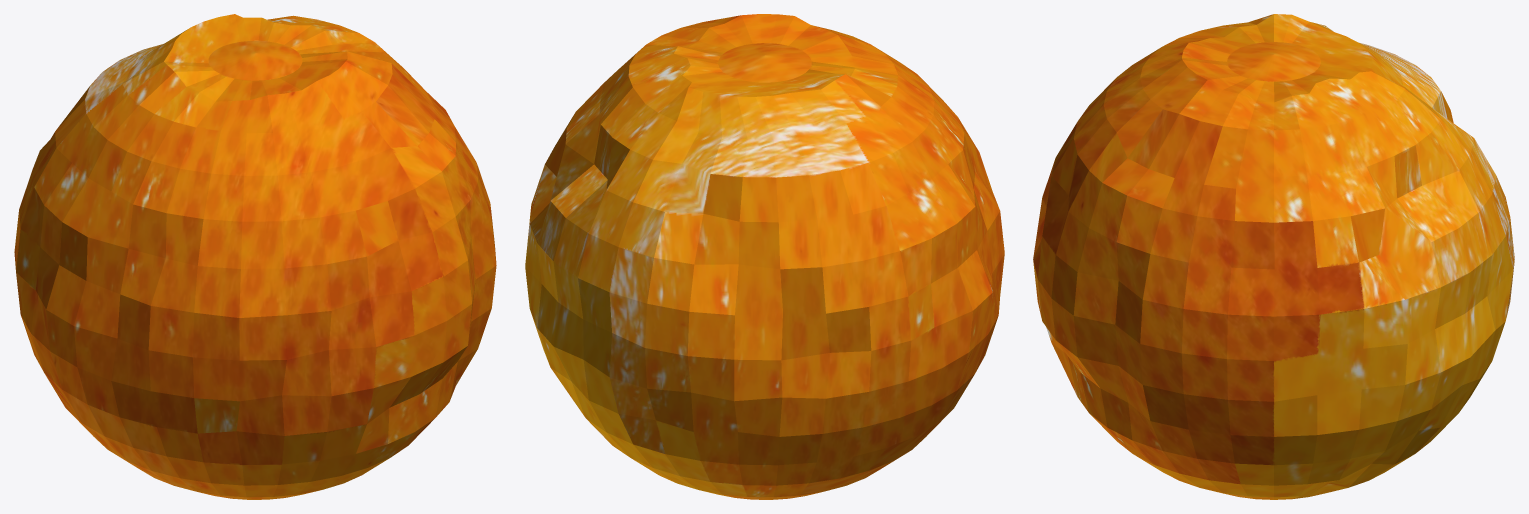
File: Orange.fbx
3 renders of one model, left to right at view 1: azimuth 30°, elevation 25°; view 2: azimuth 150°, elevation 25°; view 3: azimuth 270°, elevation 25°, orthographic.
Parts seen in each view (by area): view 1: Body; view 2: Body; view 3: Body.
Boxes of the visible parts, bbox=[...] form: Body: bbox=[14, 14, 496, 499]; Body: bbox=[525, 14, 1004, 499]; Body: bbox=[1033, 14, 1514, 499].
Bounding box in the file's own units: 0.4 × 0.4 × 0.3809.
Materials: 1 (1 with a texture image).
